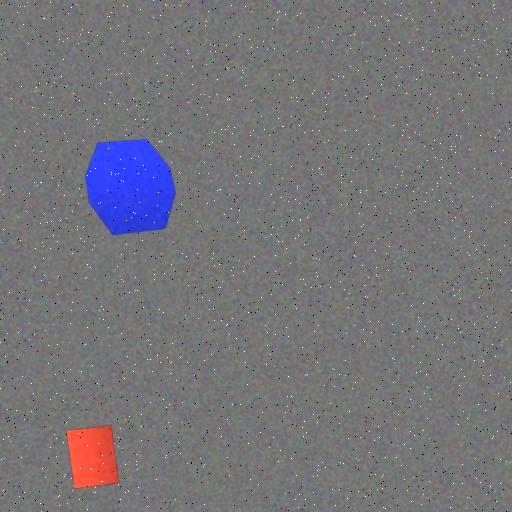RED_SQUARE: (66, 424, 119, 490)
